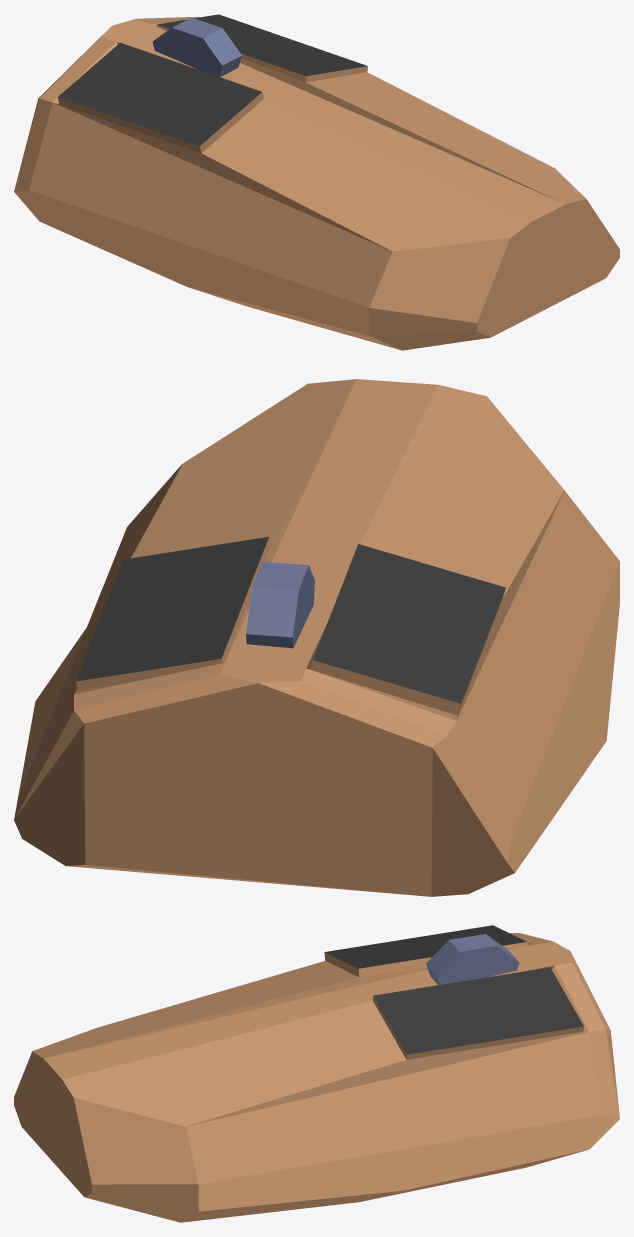
File: mouse.fbx
3 views of the same model, one above another, from view 1: azimuth 30°, elevation 25°; view 2: azimuth 150°, elevation 25°; view 3: azimuth 270°, elevation 25° (orthographic). The views are drawn at different scales.
Visible parts, largest first — view 1: Cube_073_251, Cylinder_001_250; view 2: Cube_073_251, Cylinder_001_250; view 3: Cube_073_251, Cylinder_001_250.
Boxes of the visible parts, x1=… form: Cube_073_251: x1=14, y1=14, x2=619, y2=350; Cylinder_001_250: x1=152, y1=17, x2=241, y2=77; Cube_073_251: x1=14, y1=379, x2=619, y2=896; Cylinder_001_250: x1=246, y1=562, x2=314, y2=648; Cube_073_251: x1=14, y1=925, x2=619, y2=1222; Cylinder_001_250: x1=426, y1=934, x2=519, y2=984.
Bounding box in the file's own units: 7.62 × 3.37 × 10.02.
